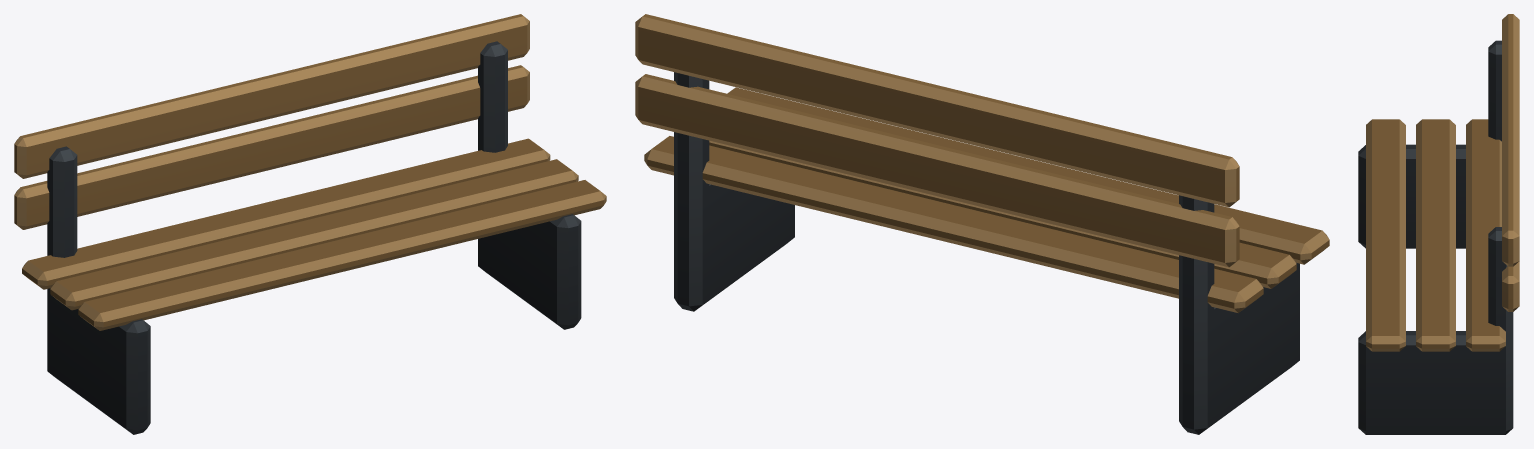
The model's file is bench-v1.glb.
3 views of the same model, side by side, from view 1: azimuth 30°, elevation 25°; view 2: azimuth 150°, elevation 25°; view 3: azimuth 270°, elevation 25° (orthographic). The views are drawn at different scales.
Parts seen in each view (by area): view 1: bench-v1.lod0; view 2: bench-v1.lod0; view 3: bench-v1.lod0.
Part boxes in pixels (box(x1,y1,x2,y2)): bench-v1.lod0: box(14, 14, 606, 434); bench-v1.lod0: box(635, 14, 1329, 434); bench-v1.lod0: box(1358, 14, 1519, 434).
Bounding box in the file's own units: 2.1 × 0.96 × 0.645.
